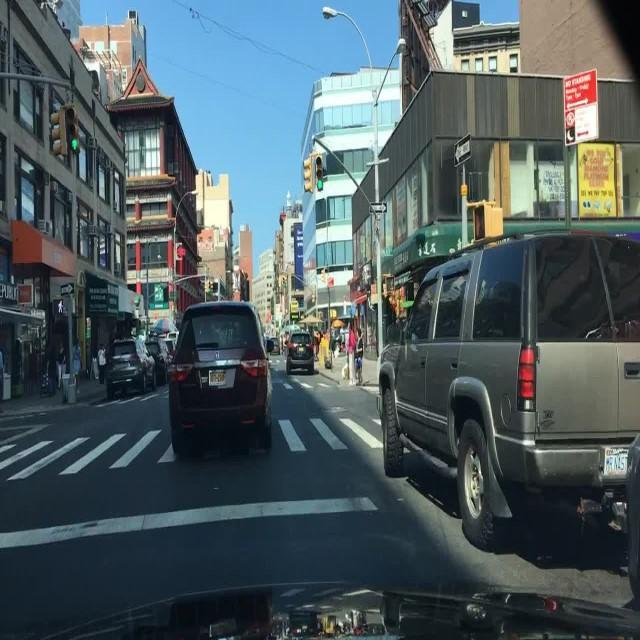normal: (166, 299, 272, 452), (105, 336, 156, 397)
